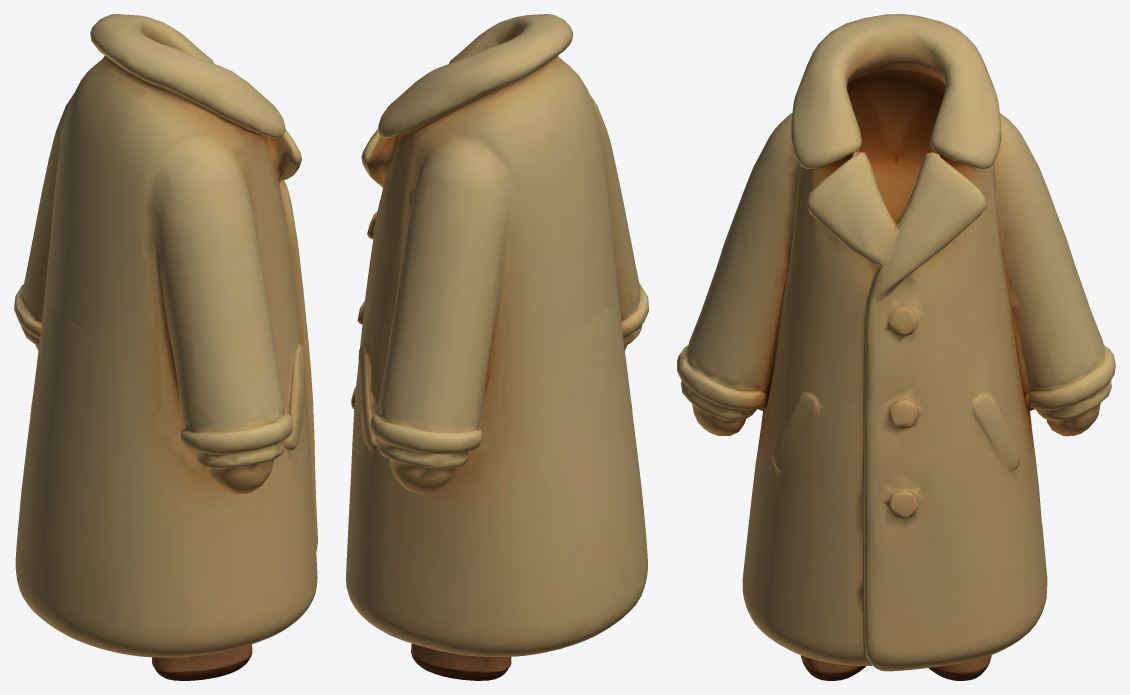
The model's file is trenchcoat.glb.
3 renders of one model, left to right at view 1: azimuth 30°, elevation 25°; view 2: azimuth 150°, elevation 25°; view 3: azimuth 270°, elevation 25°, orthographic.
Parts seen in each view (by area): view 1: tripo_node_2817aeb0-db18-4c81-958e-cc2492ae03bb; view 2: tripo_node_2817aeb0-db18-4c81-958e-cc2492ae03bb; view 3: tripo_node_2817aeb0-db18-4c81-958e-cc2492ae03bb.
Boxes of the visible parts, box(x1,y1,x2,y2) form: tripo_node_2817aeb0-db18-4c81-958e-cc2492ae03bb: box(14, 14, 317, 680); tripo_node_2817aeb0-db18-4c81-958e-cc2492ae03bb: box(346, 14, 648, 680); tripo_node_2817aeb0-db18-4c81-958e-cc2492ae03bb: box(677, 14, 1115, 680).
Bounding box in the file's own units: 0.4454 × 0.9998 × 0.6347.
1 material, 1 textured.
